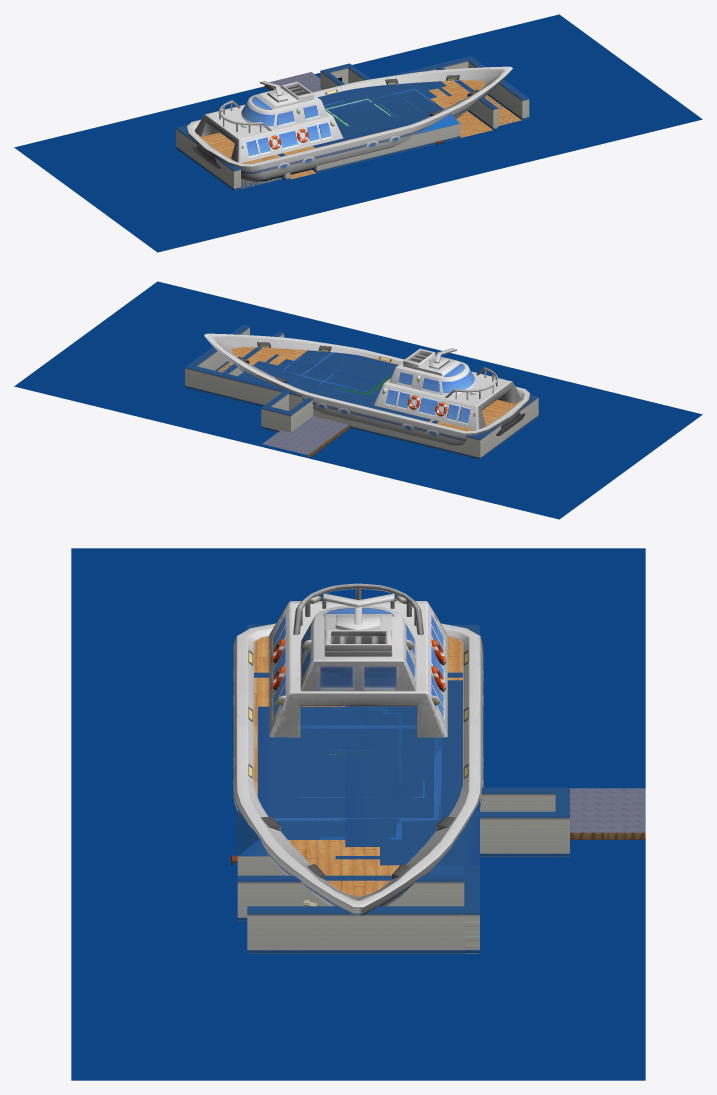
The picture shows the model from 3 angles, top to bottom: view 1: azimuth 30°, elevation 25°; view 2: azimuth 150°, elevation 25°; view 3: azimuth 270°, elevation 25°; orthographic projection. The views are drawn at different scales.
Visible parts, largest first — view 1: shui, polySurface84, Wall (×2), Floor (×3), polySurface35; view 2: shui, polySurface84, Wall (×2), Floor, polySurface35; view 3: shui, Wall (×3), polySurface84, polySurface35, Floor.
Boxes of the visible parts, box(x1,y1,x2,y2) form: shui: box(14, 14, 702, 252); polySurface84: box(186, 66, 512, 181); Wall (×2): box(176, 56, 529, 190); Floor (×3): box(241, 72, 521, 188); polySurface35: box(196, 80, 485, 163); shui: box(14, 281, 702, 519); polySurface84: box(204, 333, 530, 445); Wall (×2): box(185, 324, 538, 459); Floor: box(262, 416, 348, 454); polySurface35: box(231, 347, 520, 430); shui: box(71, 548, 645, 1080); Wall (×3): box(237, 624, 569, 954); polySurface84: box(233, 583, 483, 915); polySurface35: box(254, 636, 462, 897); Floor: box(570, 788, 645, 832).
Bounding box in the file's own units: 83.33 × 12.06 × 38.
45 materials, 43 textured.
